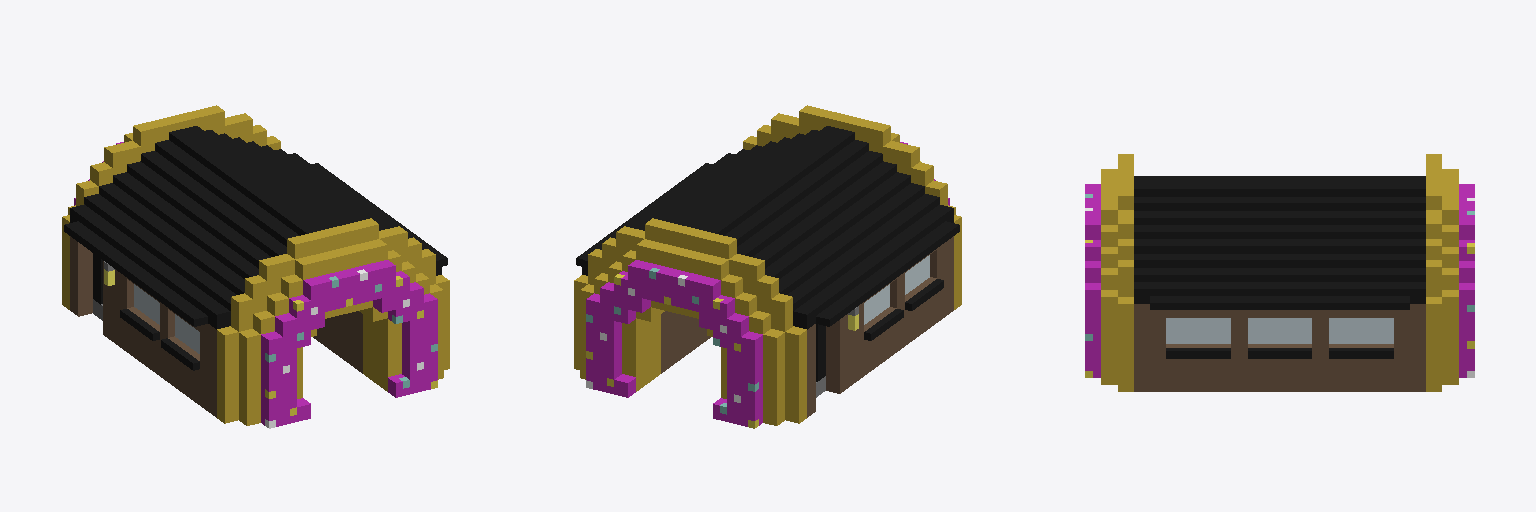
3 renders of one model, left to right at view 1: azimuth 30°, elevation 25°; view 2: azimuth 150°, elevation 25°; view 3: azimuth 270°, elevation 25°, orthographic.
Parts seen in each view (by area): view 1: donuts1; view 2: donuts1; view 3: donuts1.
Part boxes in pixels (x1,y1,x2,y2): donuts1: (62, 105, 449, 428); donuts1: (574, 105, 961, 428); donuts1: (1085, 154, 1474, 391).
Size of the model in its own units: 36 by 22 by 48.
1 materials, 1 textured.